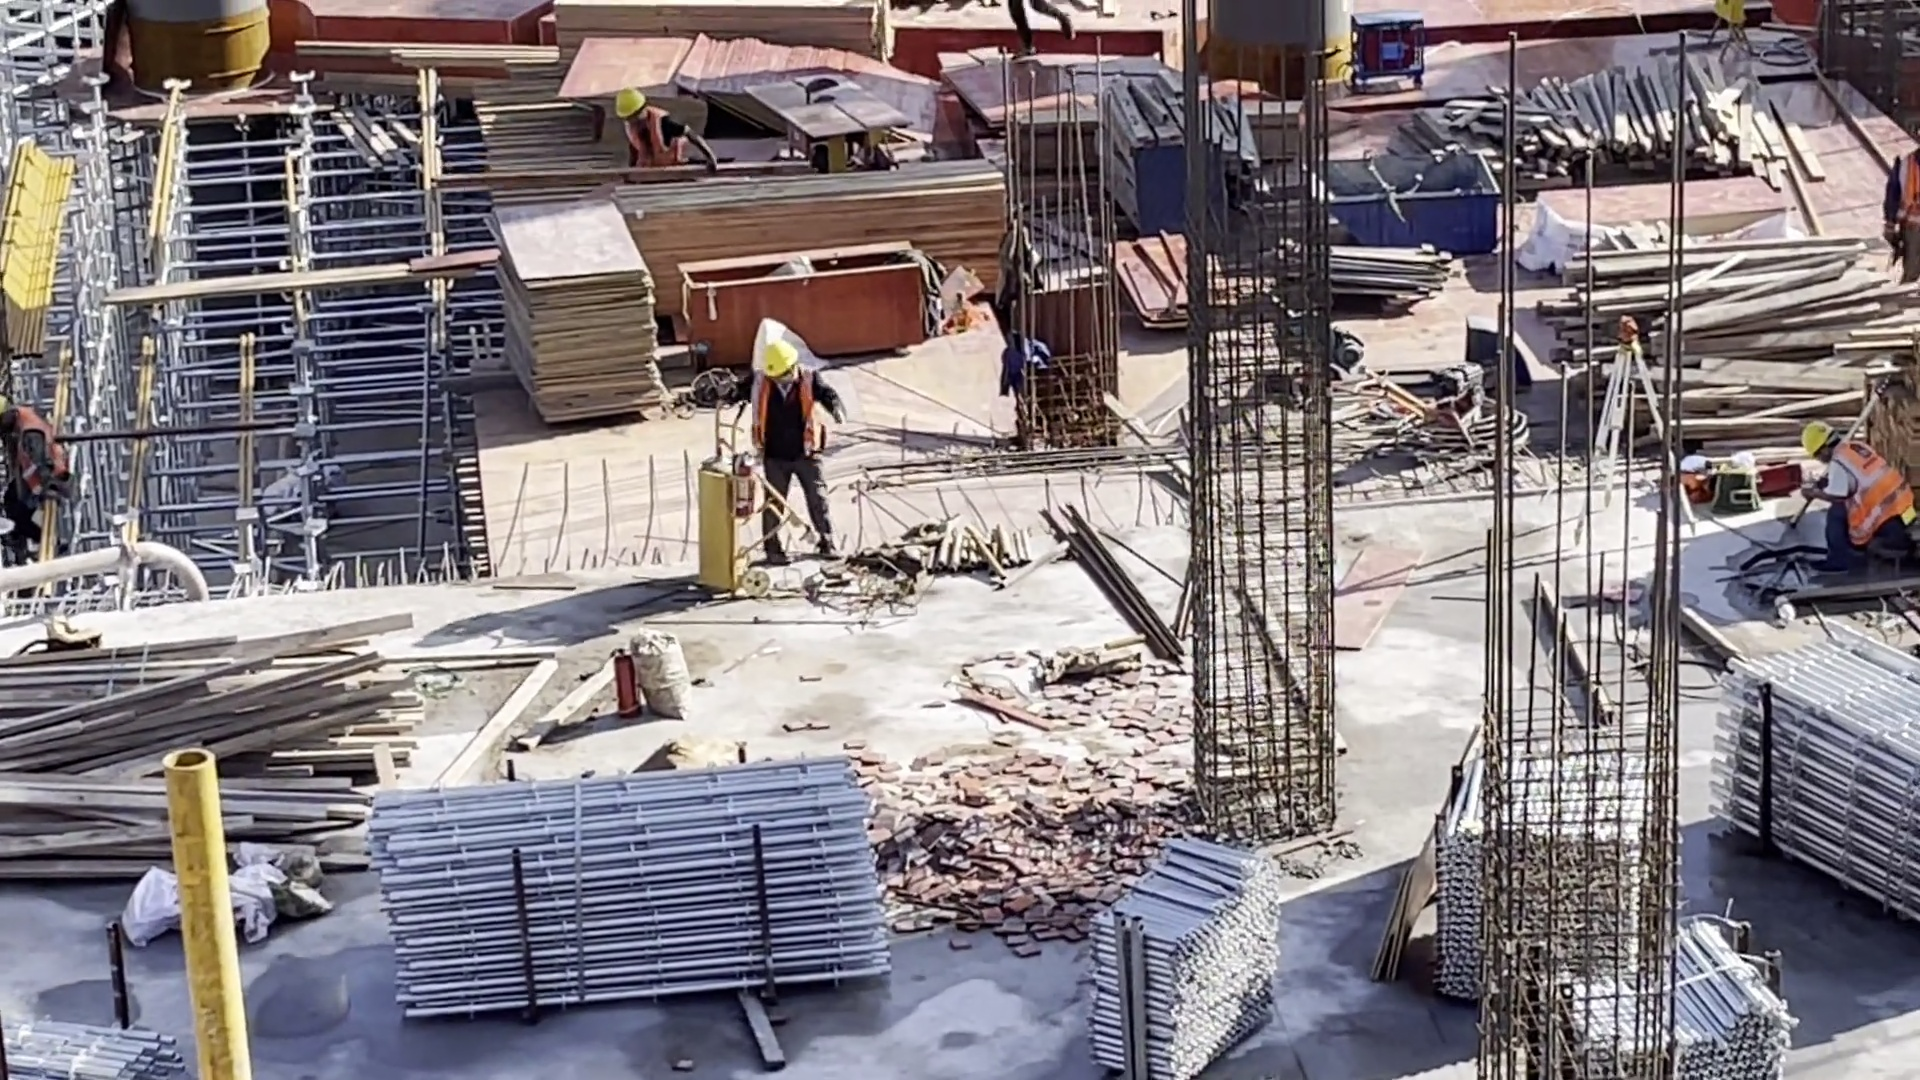board: (565, 31, 944, 142), (489, 199, 666, 428)
helmet: (762, 338, 799, 376), (1802, 417, 1832, 458), (615, 91, 648, 120)
hopper: (1311, 153, 1496, 250)
person: (751, 339, 845, 579), (1801, 420, 1917, 579), (606, 86, 726, 178), (1878, 130, 1920, 284), (1, 394, 59, 497)
scaffold: (1440, 623, 1919, 1080), (357, 753, 904, 1019), (1083, 831, 1283, 1078)
vest: (1832, 442, 1910, 546), (755, 372, 820, 460), (615, 114, 685, 162), (21, 406, 57, 497), (1892, 153, 1917, 236)
wood: (1547, 241, 1895, 453), (613, 157, 1013, 290), (1439, 56, 1810, 194)
